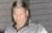boots: (0, 0, 8, 5)
gloves: (0, 0, 5, 5)
hard-hat: (0, 0, 10, 10)
